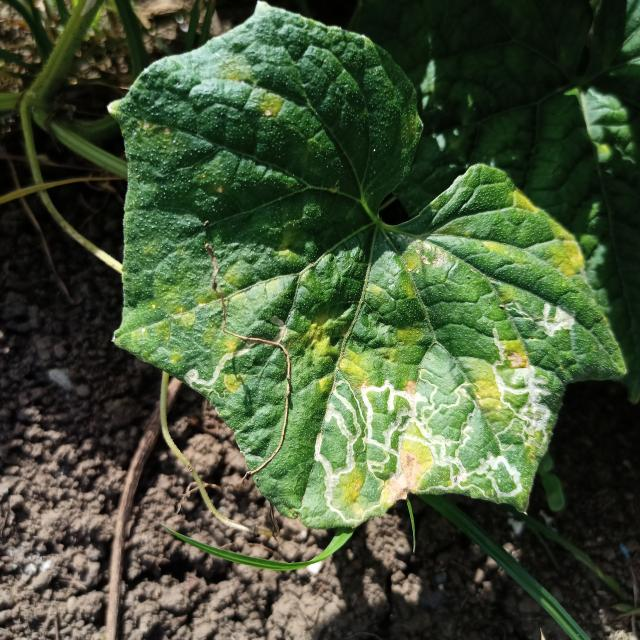disease_cucumber: (170, 241, 585, 525), (458, 182, 584, 288), (210, 51, 288, 125)
